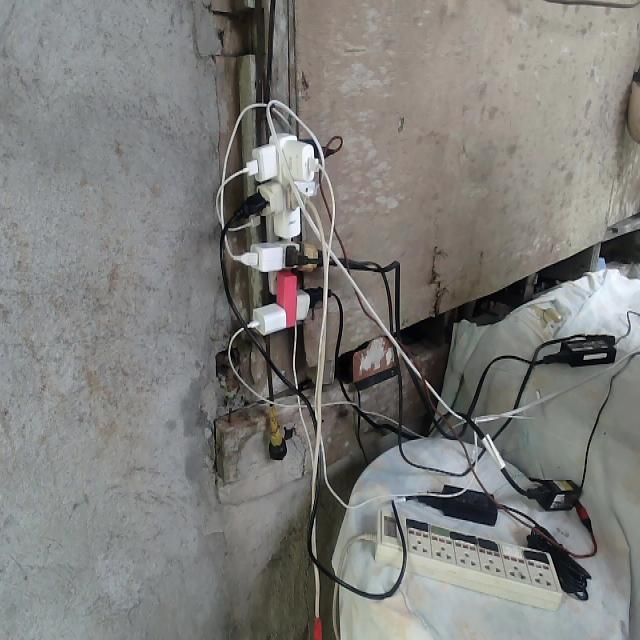-: (231, 131, 323, 332)
